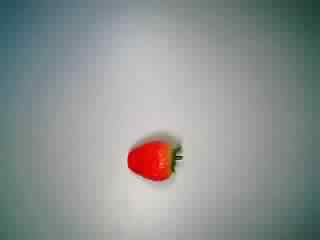strawberry: (121, 130, 189, 194)
